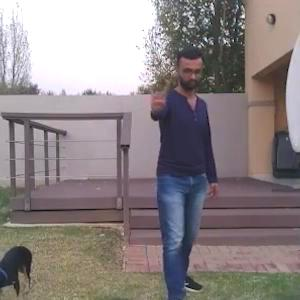takeoff-hand: (143, 74, 170, 119)
